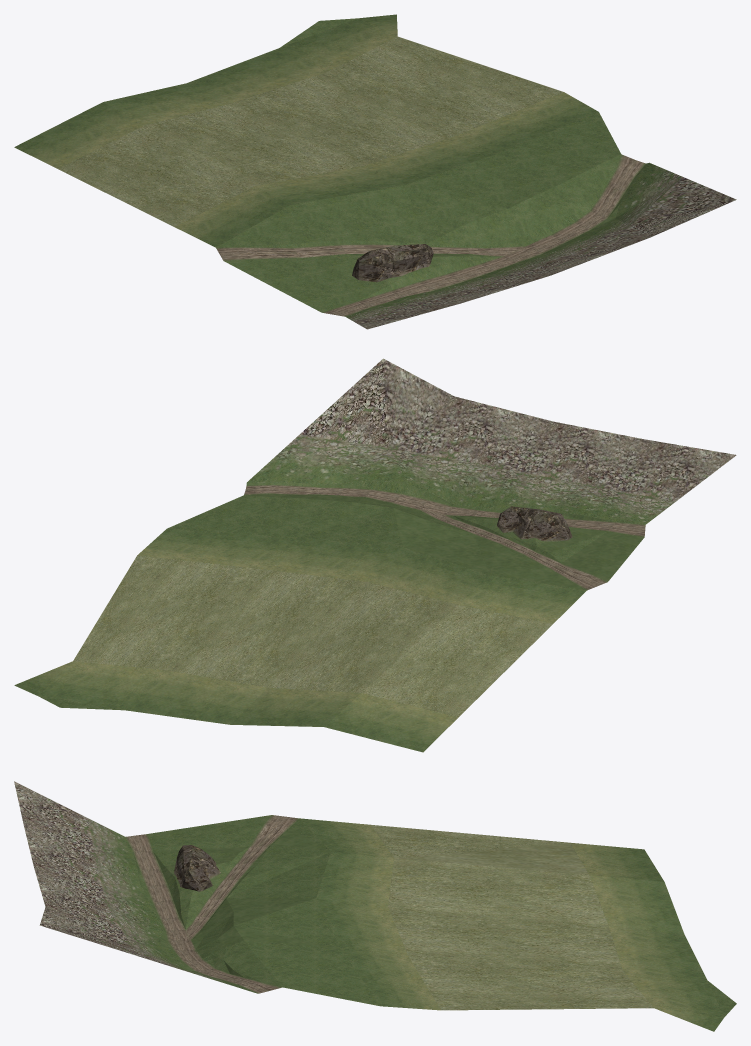
File: cegroundtp102.obj
3 views of the same model, one above another, from view 1: azimuth 30°, elevation 25°; view 2: azimuth 150°, elevation 25°; view 3: azimuth 270°, elevation 25° (orthographic). The views are drawn at different scales.
Parts seen in each view (by area): view 1: CEgroundTP102; view 2: CEgroundTP102; view 3: CEgroundTP102.
Part boxes in pixels (left/top/right/bottom): CEgroundTP102: left=14, top=14, right=736, bottom=329; CEgroundTP102: left=14, top=358, right=736, bottom=752; CEgroundTP102: left=14, top=781, right=736, bottom=1031.
Bounding box in the file's own units: 165 × 36.75 × 265.
Materials: 6 (6 with a texture image).
